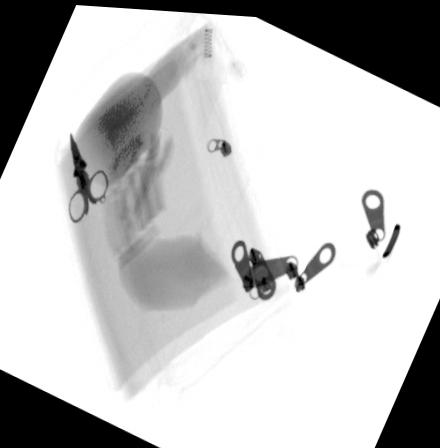Scissors: (66, 131, 109, 223)
